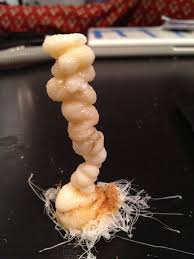fail: (20, 172, 184, 259)
